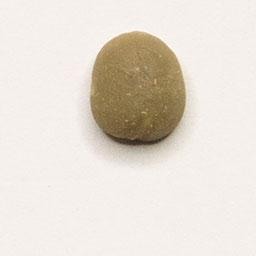premium: (86, 27, 189, 148)
